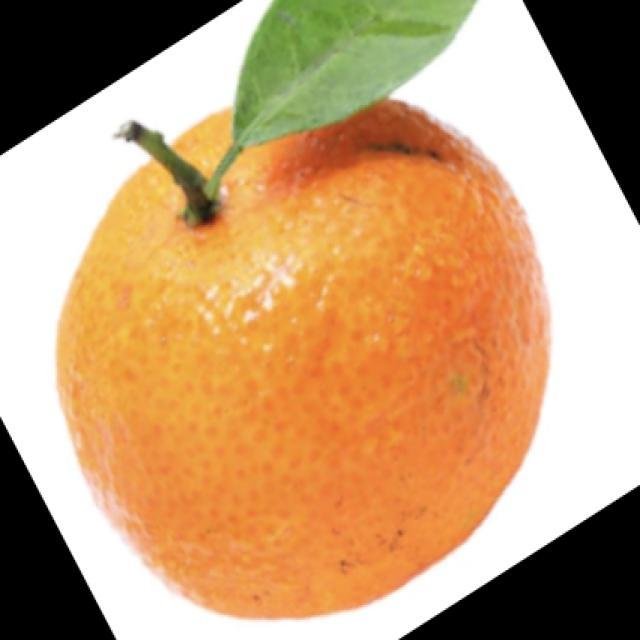matang: (58, 0, 548, 616)
